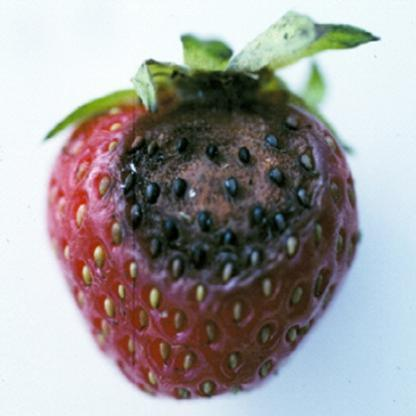Strawberry_Anthracnose_Fruit_Rot: (86, 87, 350, 311)
